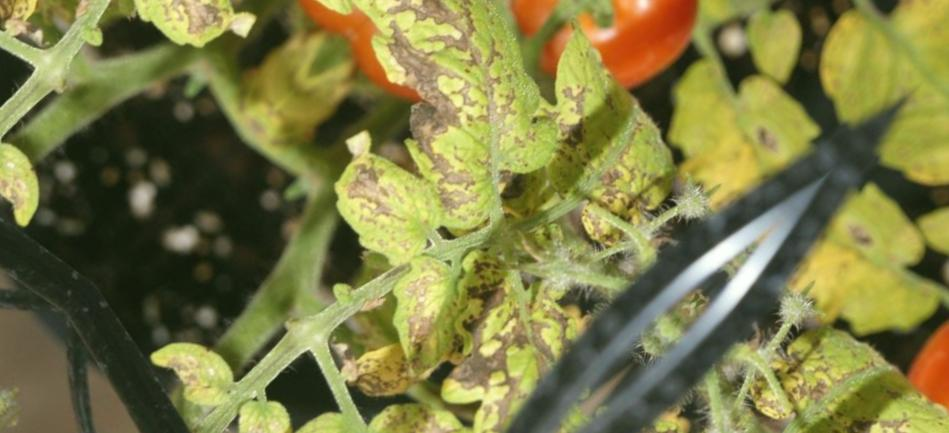Tomato leaf bacterial spot: (300, 0, 621, 266), (485, 26, 713, 255), (355, 262, 624, 433), (218, 336, 510, 433), (300, 123, 463, 288)
